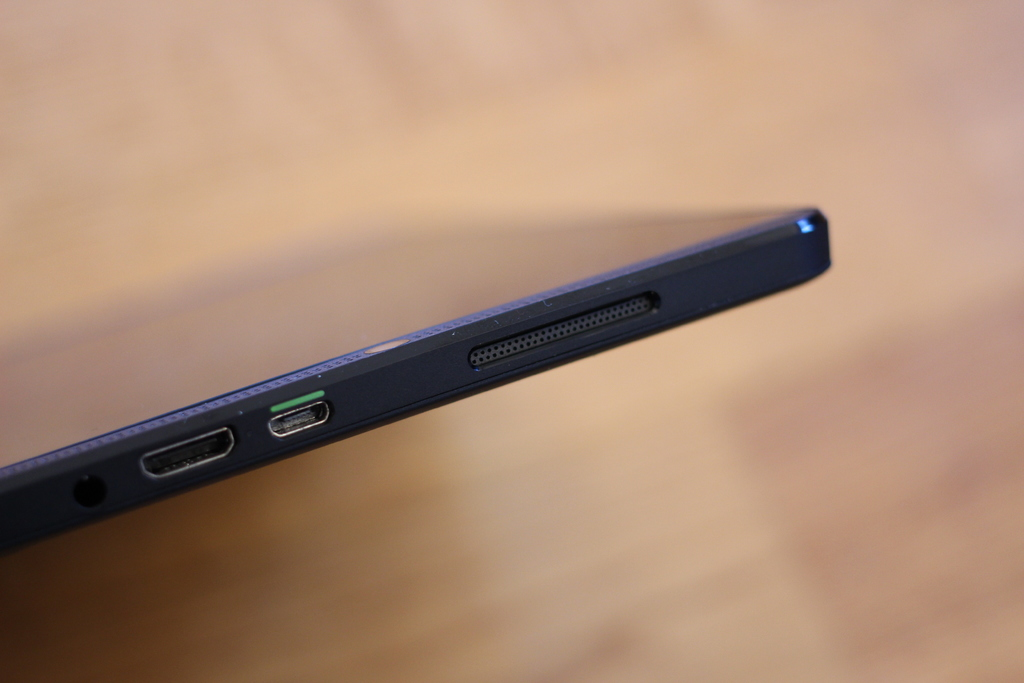Mobile-phone: (0, 199, 829, 549)
